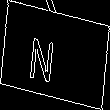N_N: (40, 27, 70, 83)
